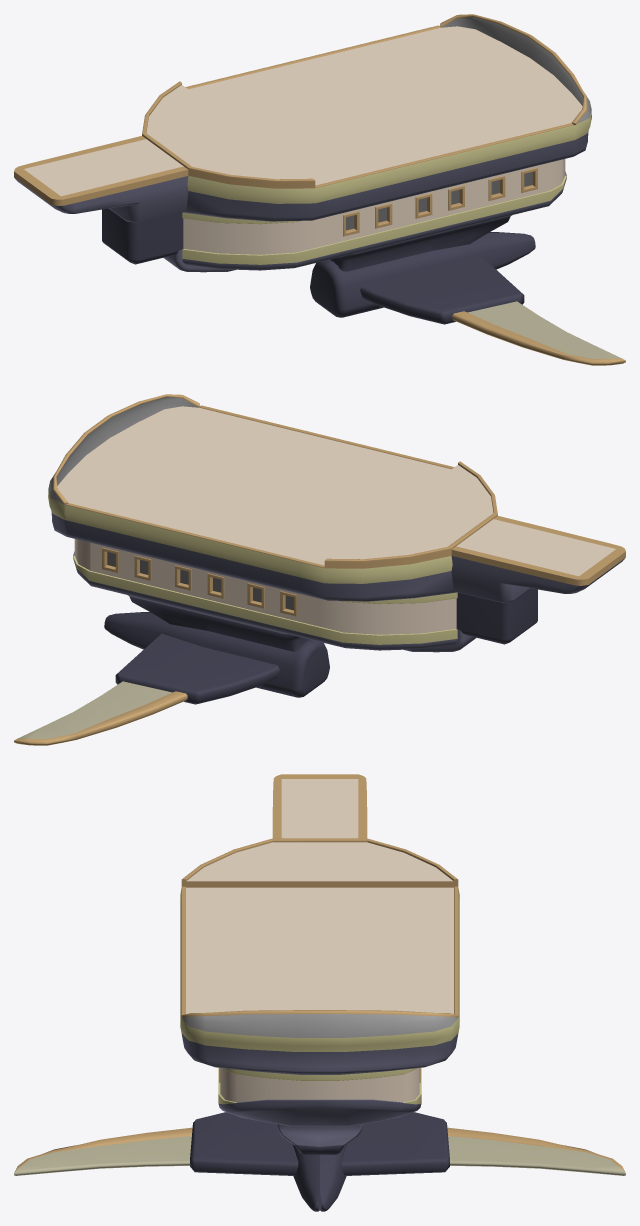
File: Ship_Anvil.fbx
The picture shows the model from 3 angles, top to bottom: view 1: azimuth 30°, elevation 25°; view 2: azimuth 150°, elevation 25°; view 3: azimuth 270°, elevation 25°; orthographic projection. The views are drawn at different scales.
Visible parts, largest first — view 1: Ship1_Anvil_Body, Ship1_Anvil_Bow, InnerWing_L, Ship1_Anvil_Payload, Wing_L, Sponson; view 2: Ship1_Anvil_Body, Ship1_Anvil_Bow, InnerWing_R, Ship1_Anvil_Payload, Wing_R, Sponson; view 3: Ship1_Anvil_Body, Ship1_Anvil_Bow, InnerWing_R, InnerWing_L, Wing_R, Wing_L, Ship1_Anvil_Payload, Sponson.
Boxes of the visible parts, x1,y1,x2,y2 form: Ship1_Anvil_Body: (142,14,591,272); Ship1_Anvil_Bow: (14,136,188,264); InnerWing_L: (360,253,524,324); Ship1_Anvil_Payload: (310,232,535,317); Wing_L: (452,301,625,365); Sponson: (330,215,512,271); Ship1_Anvil_Body: (48,394,497,652); Ship1_Anvil_Bow: (451,516,625,644); InnerWing_R: (115,633,279,704); Ship1_Anvil_Payload: (104,612,329,697); Wing_R: (14,681,187,745); Sponson: (127,595,309,651); Ship1_Anvil_Body: (180,838,459,1126); Ship1_Anvil_Bow: (272,774,367,838); InnerWing_R: (341,1112,449,1175); InnerWing_L: (190,1112,298,1175); Wing_R: (447,1127,625,1175); Wing_L: (14,1127,192,1175); Ship1_Anvil_Payload: (293,1144,346,1211); Sponson: (277,1124,362,1154).
Bounding box in the file's own units: 1320 × 525 × 1326.
